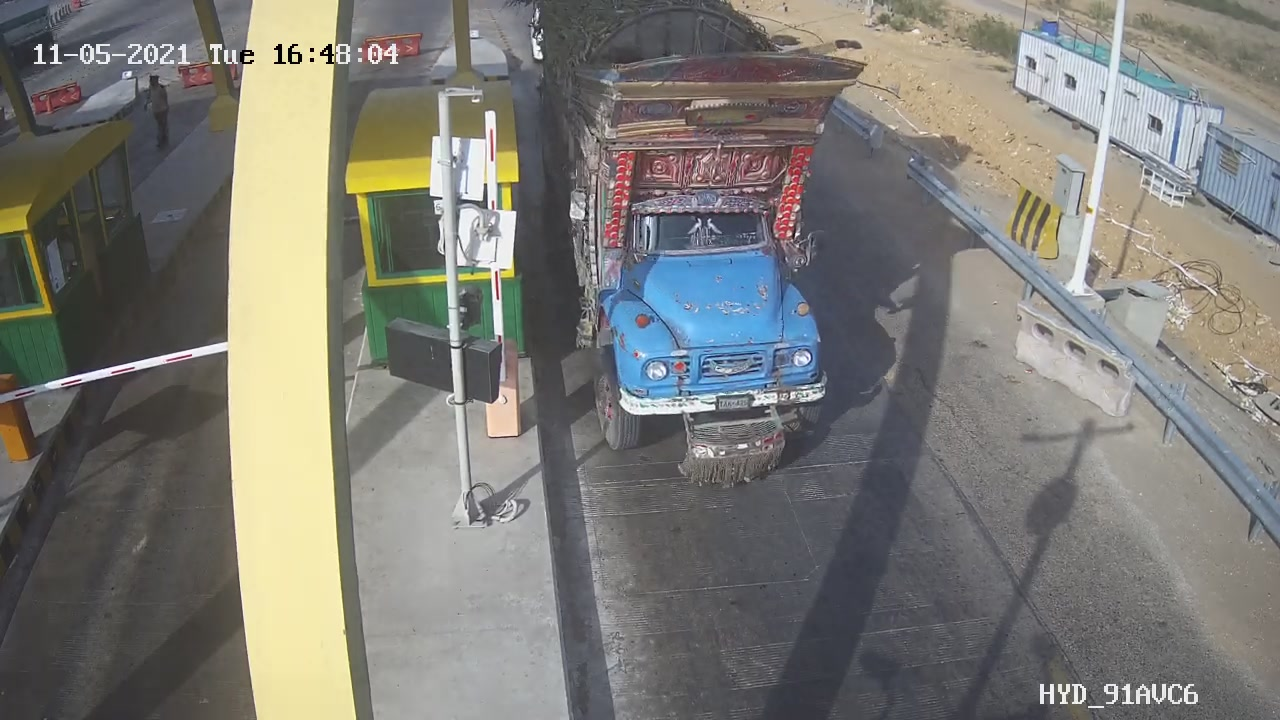F5: (520, 4, 889, 512)
